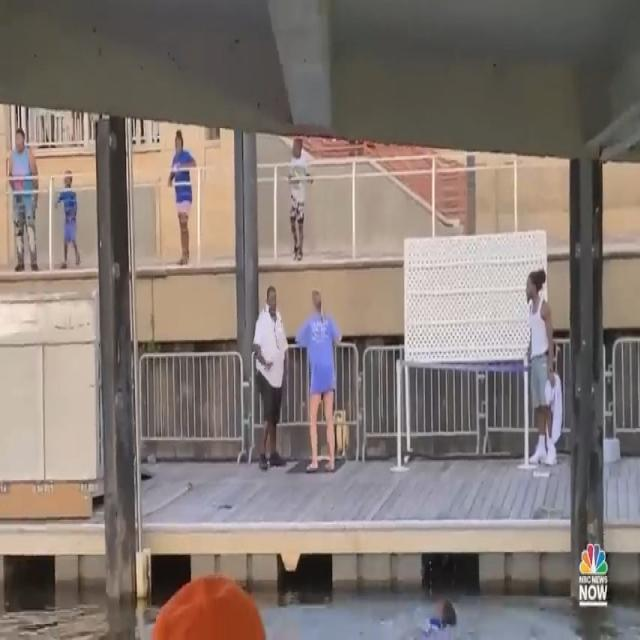non-fight: (247, 273, 345, 487), (0, 128, 86, 279), (510, 254, 566, 484), (160, 128, 207, 266), (276, 134, 316, 268)
